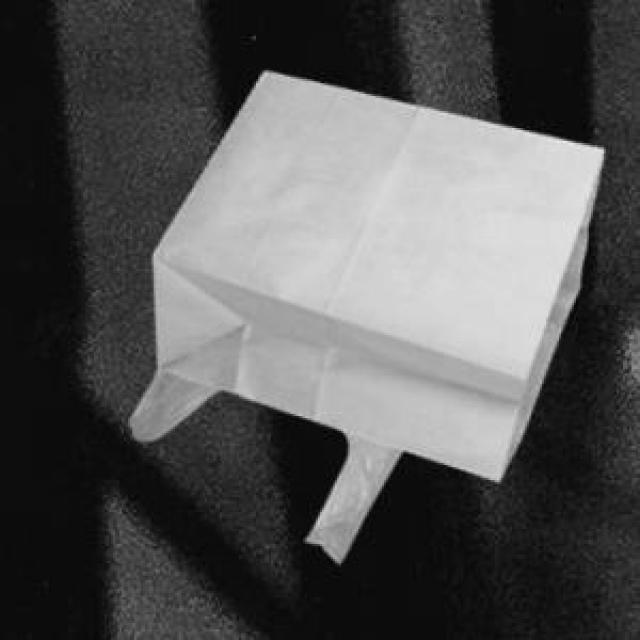paper: (149, 68, 600, 476)
